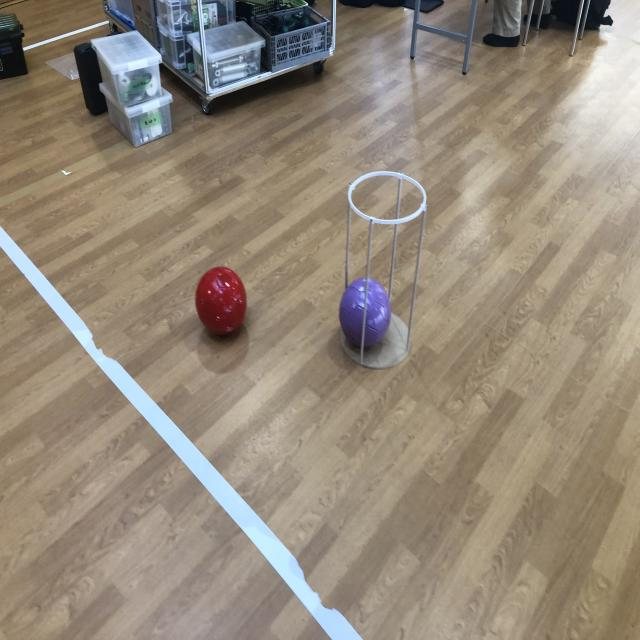purple_ball: (339, 278, 390, 346)
red_ball: (196, 265, 246, 338)
